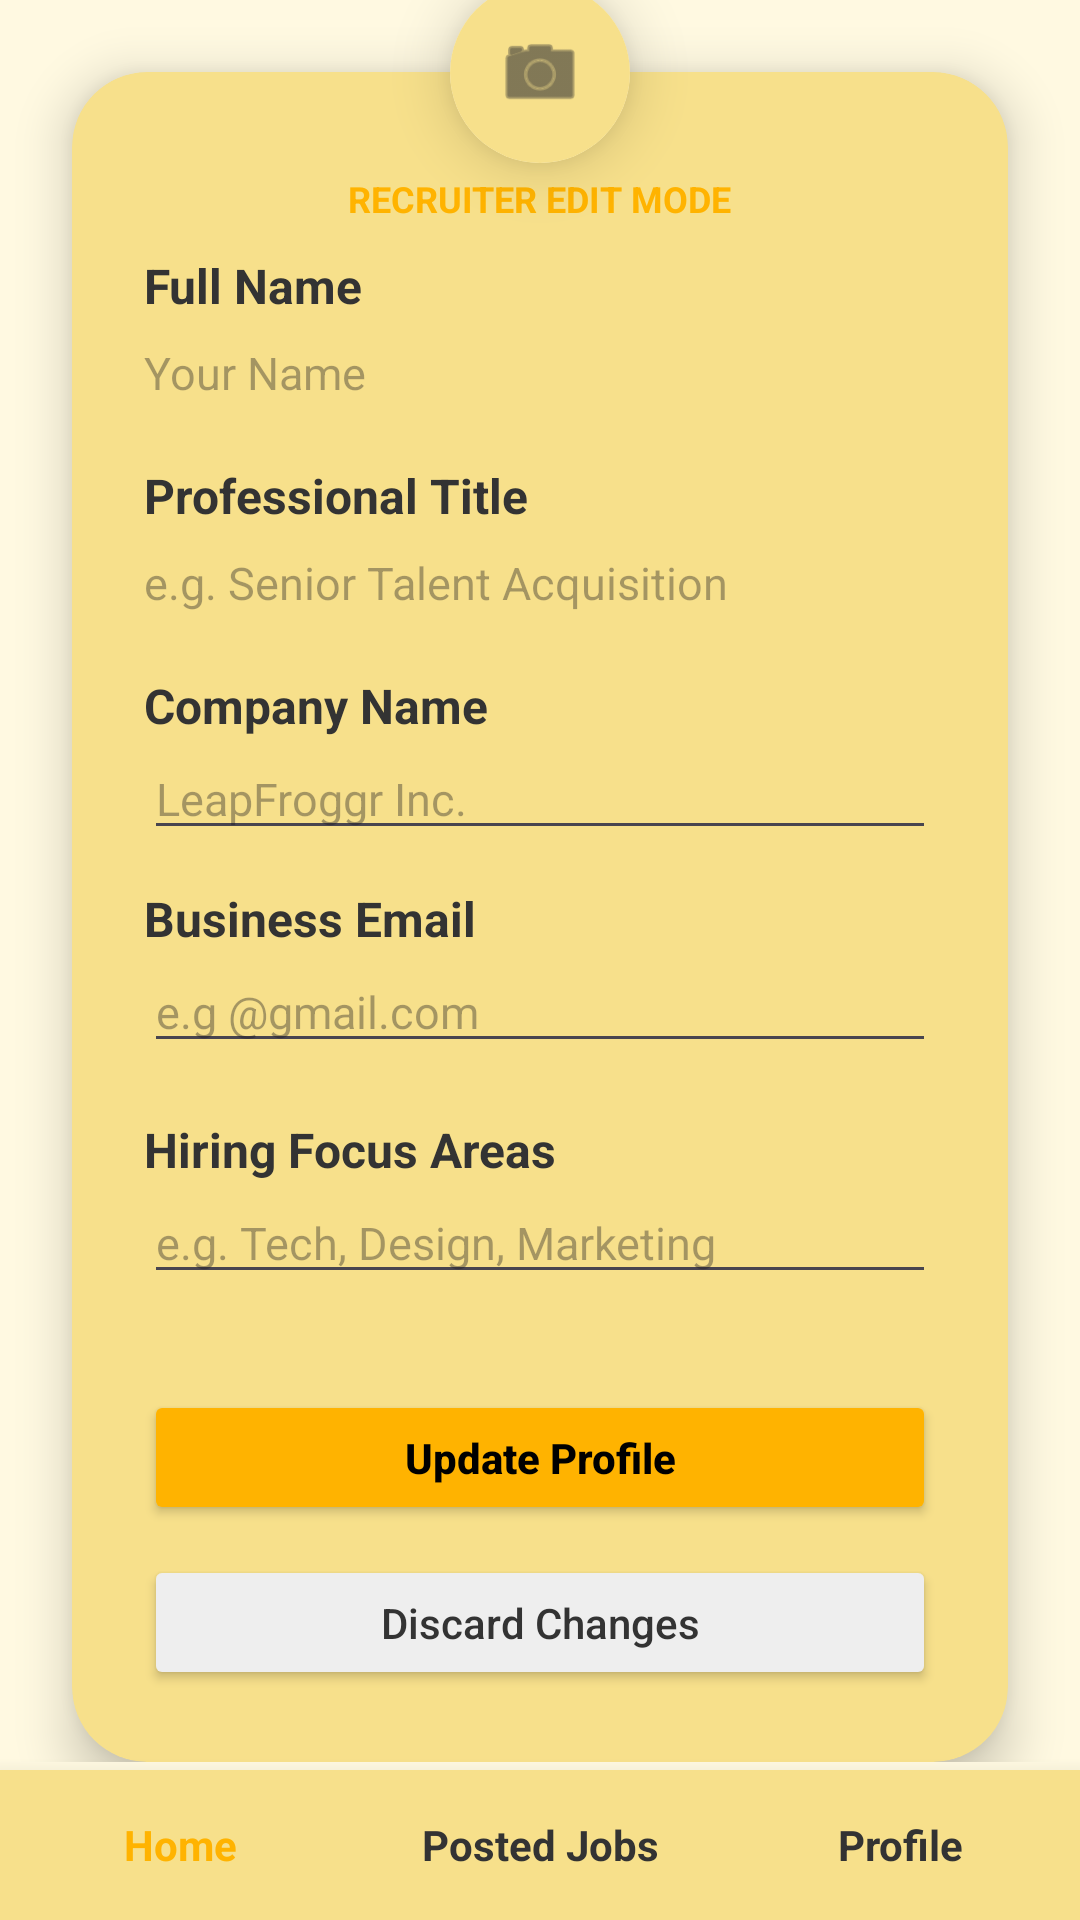

Named icons in this screenshot (1080 × 1920) and their centers, point (x, y):
camera: point (540, 71)
